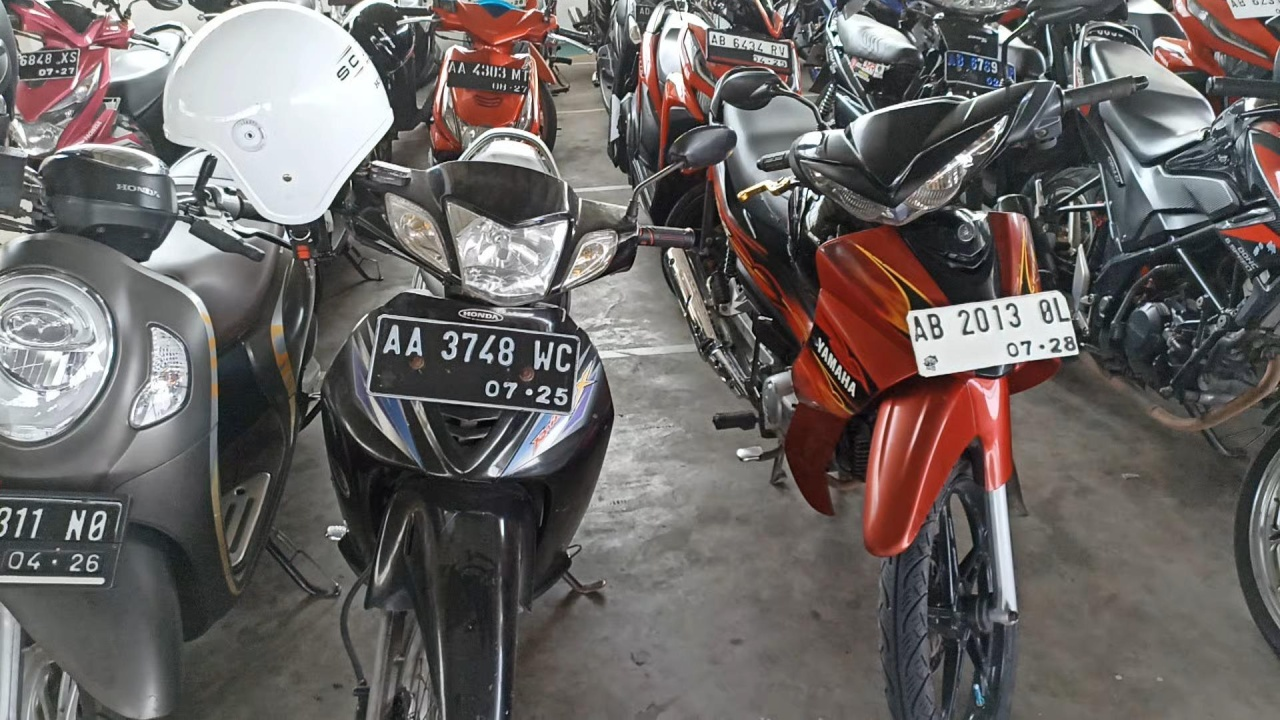plate: (366, 315, 581, 415), (906, 290, 1079, 376), (708, 29, 791, 74), (448, 60, 529, 95)
